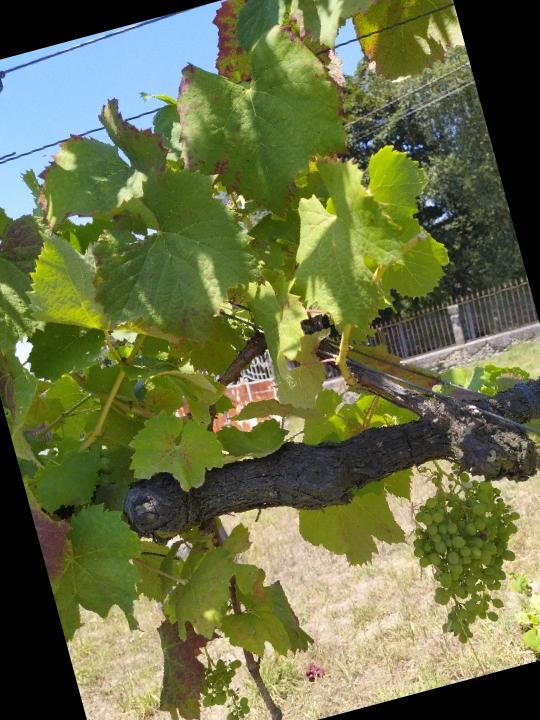grape: (398, 451, 540, 652), (192, 653, 259, 720)
